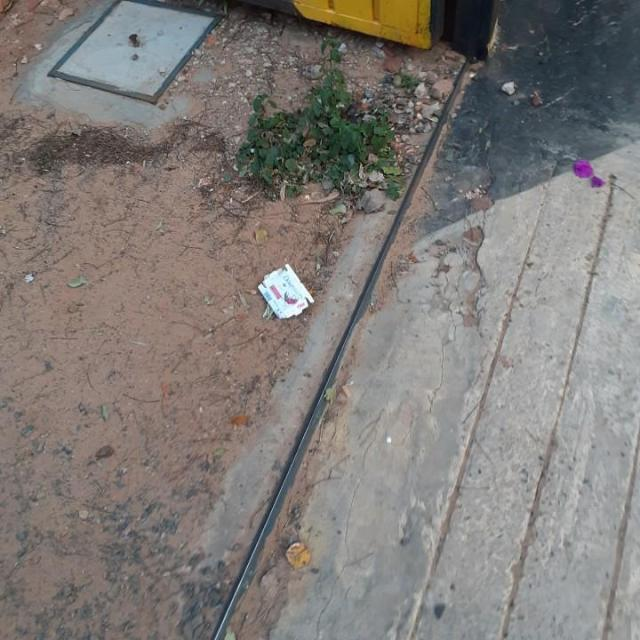litter: (258, 263, 314, 319)
